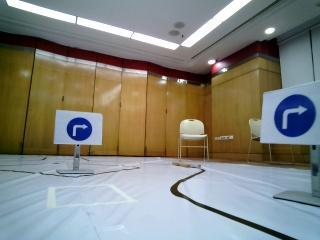right: (260, 92, 320, 139), (53, 110, 101, 145)
